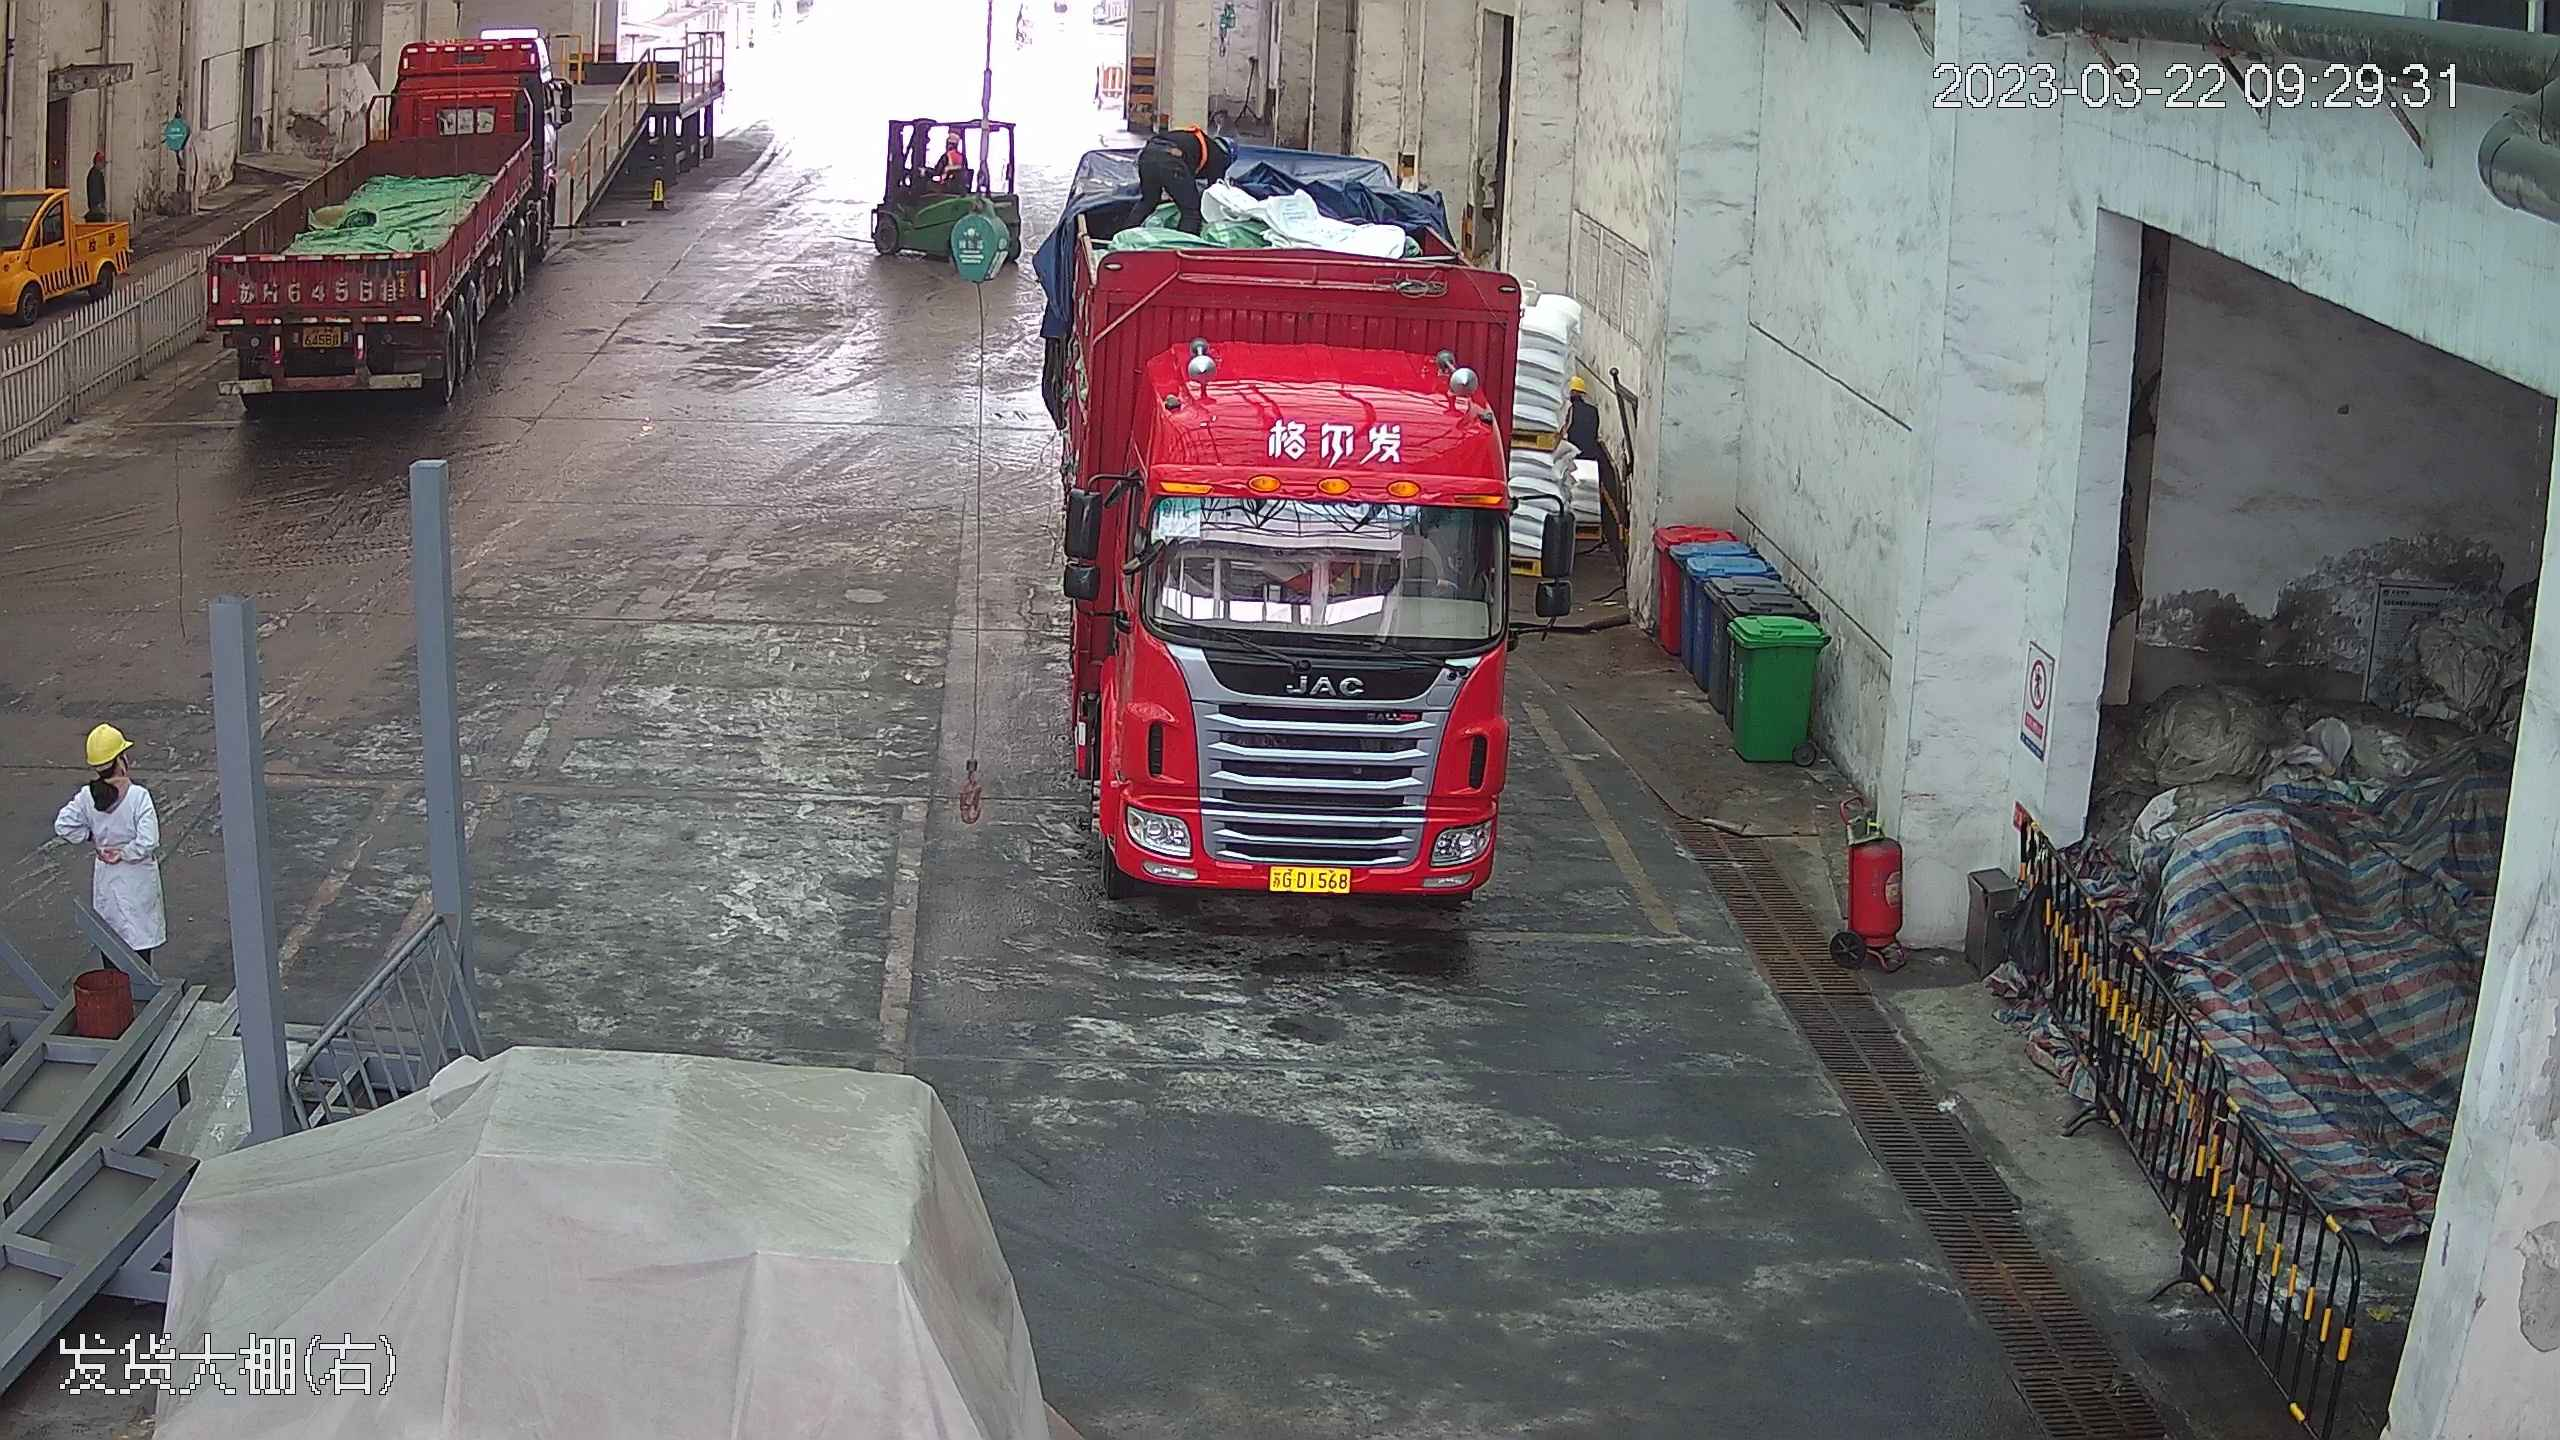belt: (1183, 121, 1209, 174)
head: (68, 719, 150, 825), (940, 130, 966, 171)
helmet: (81, 719, 130, 764), (1219, 133, 1240, 164), (946, 131, 961, 144)
people: (66, 720, 166, 1010), (1112, 124, 1243, 238)
truck: (1028, 106, 1536, 919), (196, 17, 585, 404)
